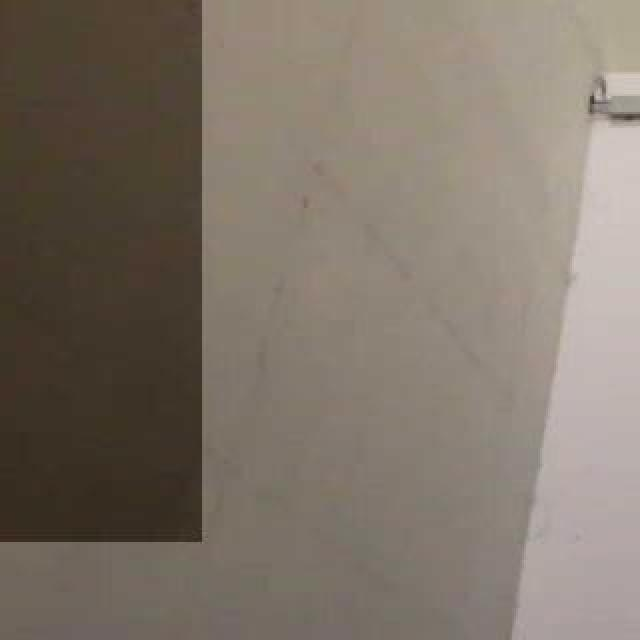fluorescent tube: (0, 0, 170, 522)
